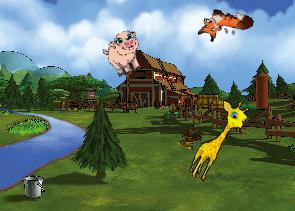fox: (196, 4, 254, 49)
giraffe: (185, 94, 253, 188)
pig: (99, 27, 150, 80)
